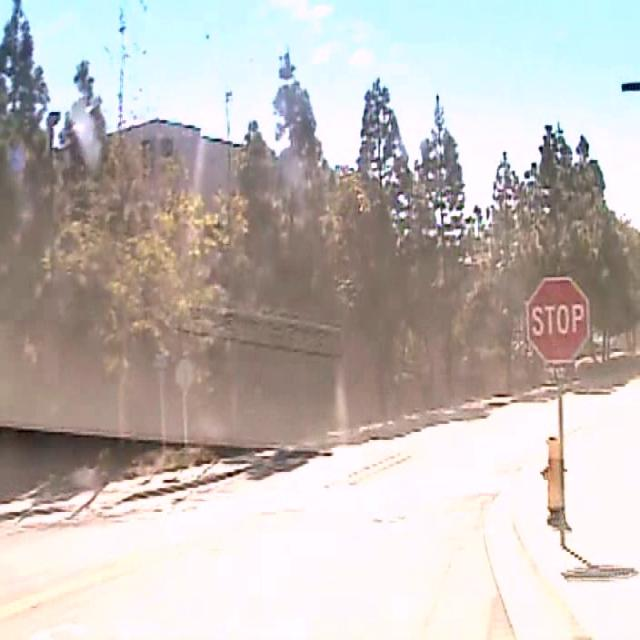stop: (526, 276, 589, 363)
